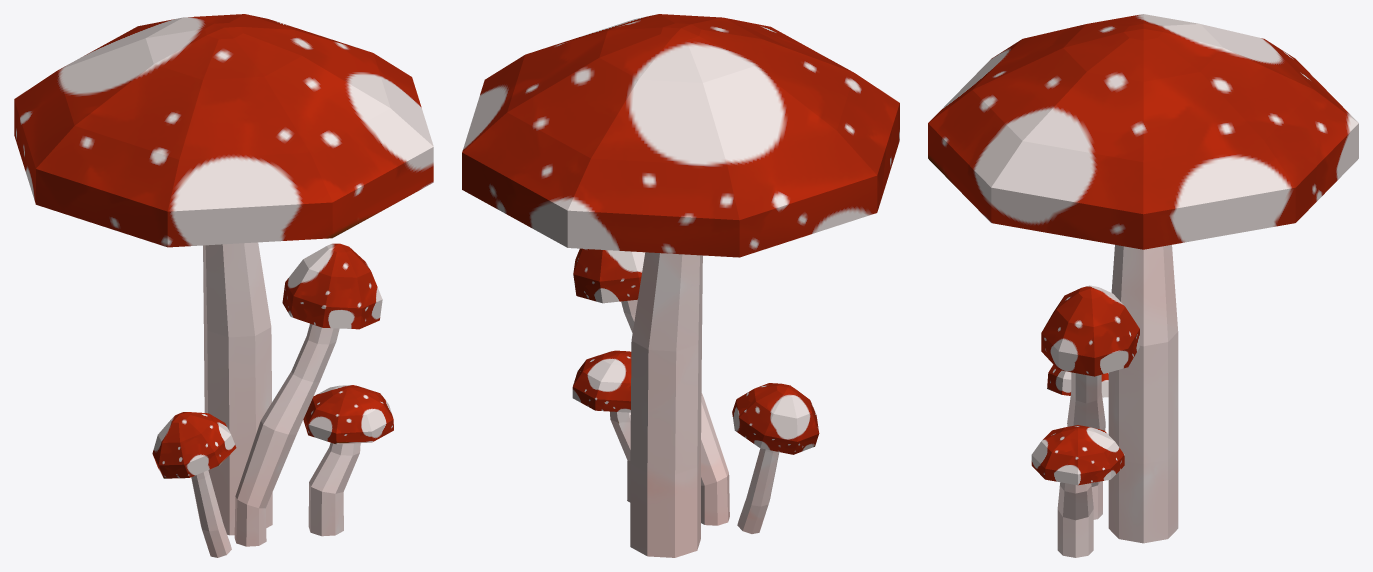
The model's file is Cogumelo.fbx.
3 renders of one model, left to right at view 1: azimuth 30°, elevation 25°; view 2: azimuth 150°, elevation 25°; view 3: azimuth 270°, elevation 25°, orthographic. The views are drawn at different scales.
Visible parts, largest first — view 1: CogumeloVermelho; view 2: CogumeloVermelho; view 3: CogumeloVermelho.
Boxes of the visible parts, left/top/right/bottom form: CogumeloVermelho: left=14, top=14, right=433, bottom=557; CogumeloVermelho: left=462, top=14, right=899, bottom=557; CogumeloVermelho: left=928, top=14, right=1358, bottom=557.
Size of the model in its own units: 35.74 by 45.11 by 35.74.
